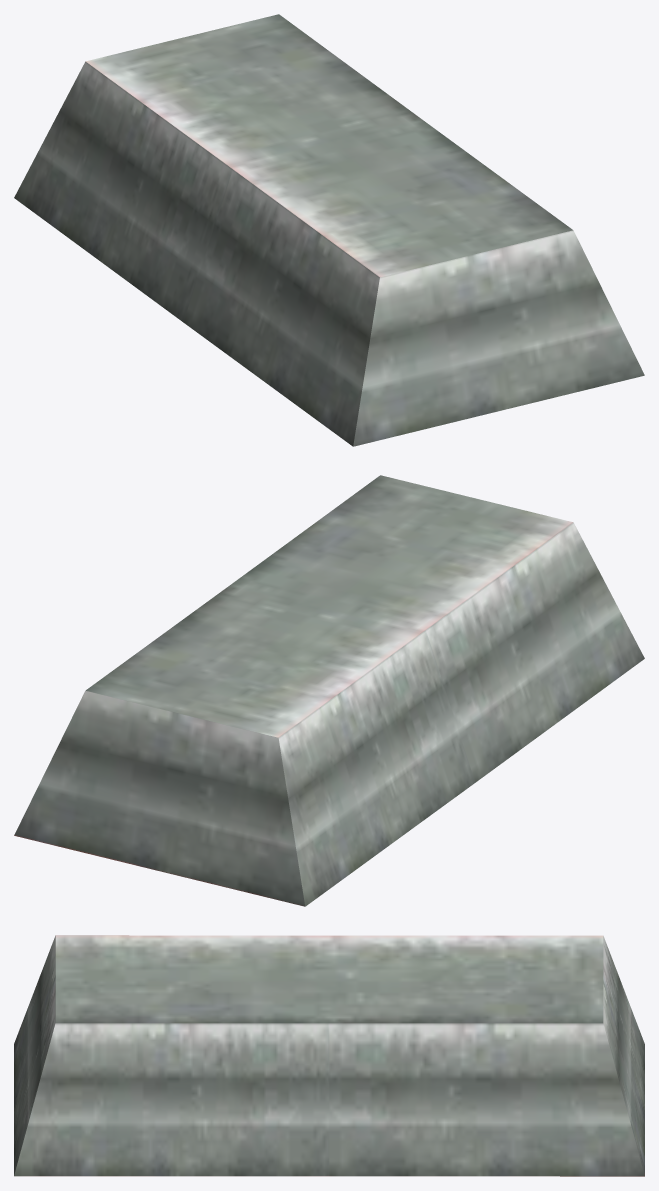
File: SYN_SILVER_BAR.glb
3 renders of one model, top to bottom at view 1: azimuth 30°, elevation 25°; view 2: azimuth 150°, elevation 25°; view 3: azimuth 270°, elevation 25°, orthographic. The views are drawn at different scales.
Parts seen in each view (by area): view 1: SYN_SILVER_BAR; view 2: SYN_SILVER_BAR; view 3: SYN_SILVER_BAR.
Part boxes in pixels (x1,y1,x2,y2): SYN_SILVER_BAR: (14,14,644,446); SYN_SILVER_BAR: (14,475,644,906); SYN_SILVER_BAR: (14,935,644,1176).
Bounding box in the file's own units: 0.1875 × 0.0864 × 0.3774.
1 material, 1 textured.
